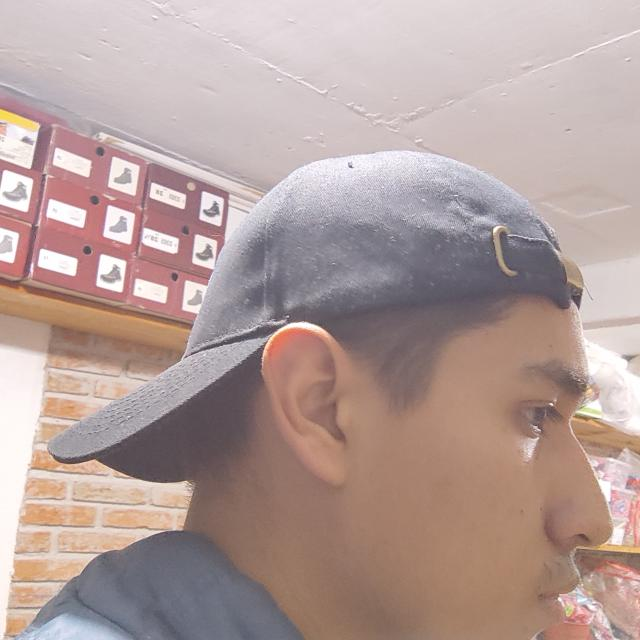ear: (261, 322, 352, 486)
